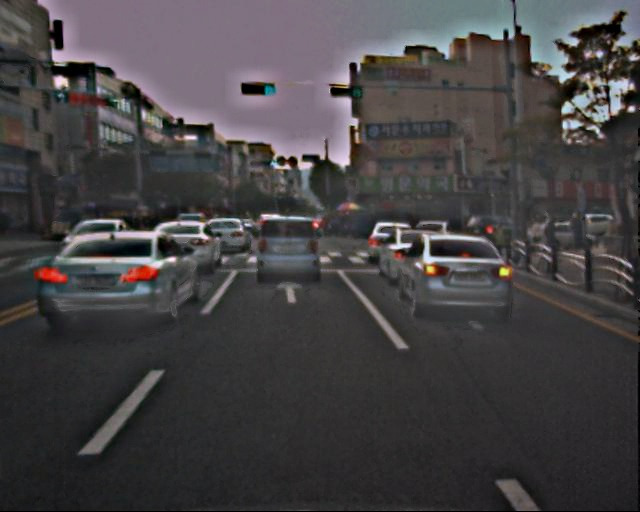person: (540, 214, 562, 267), (527, 220, 546, 266), (568, 208, 584, 248)
